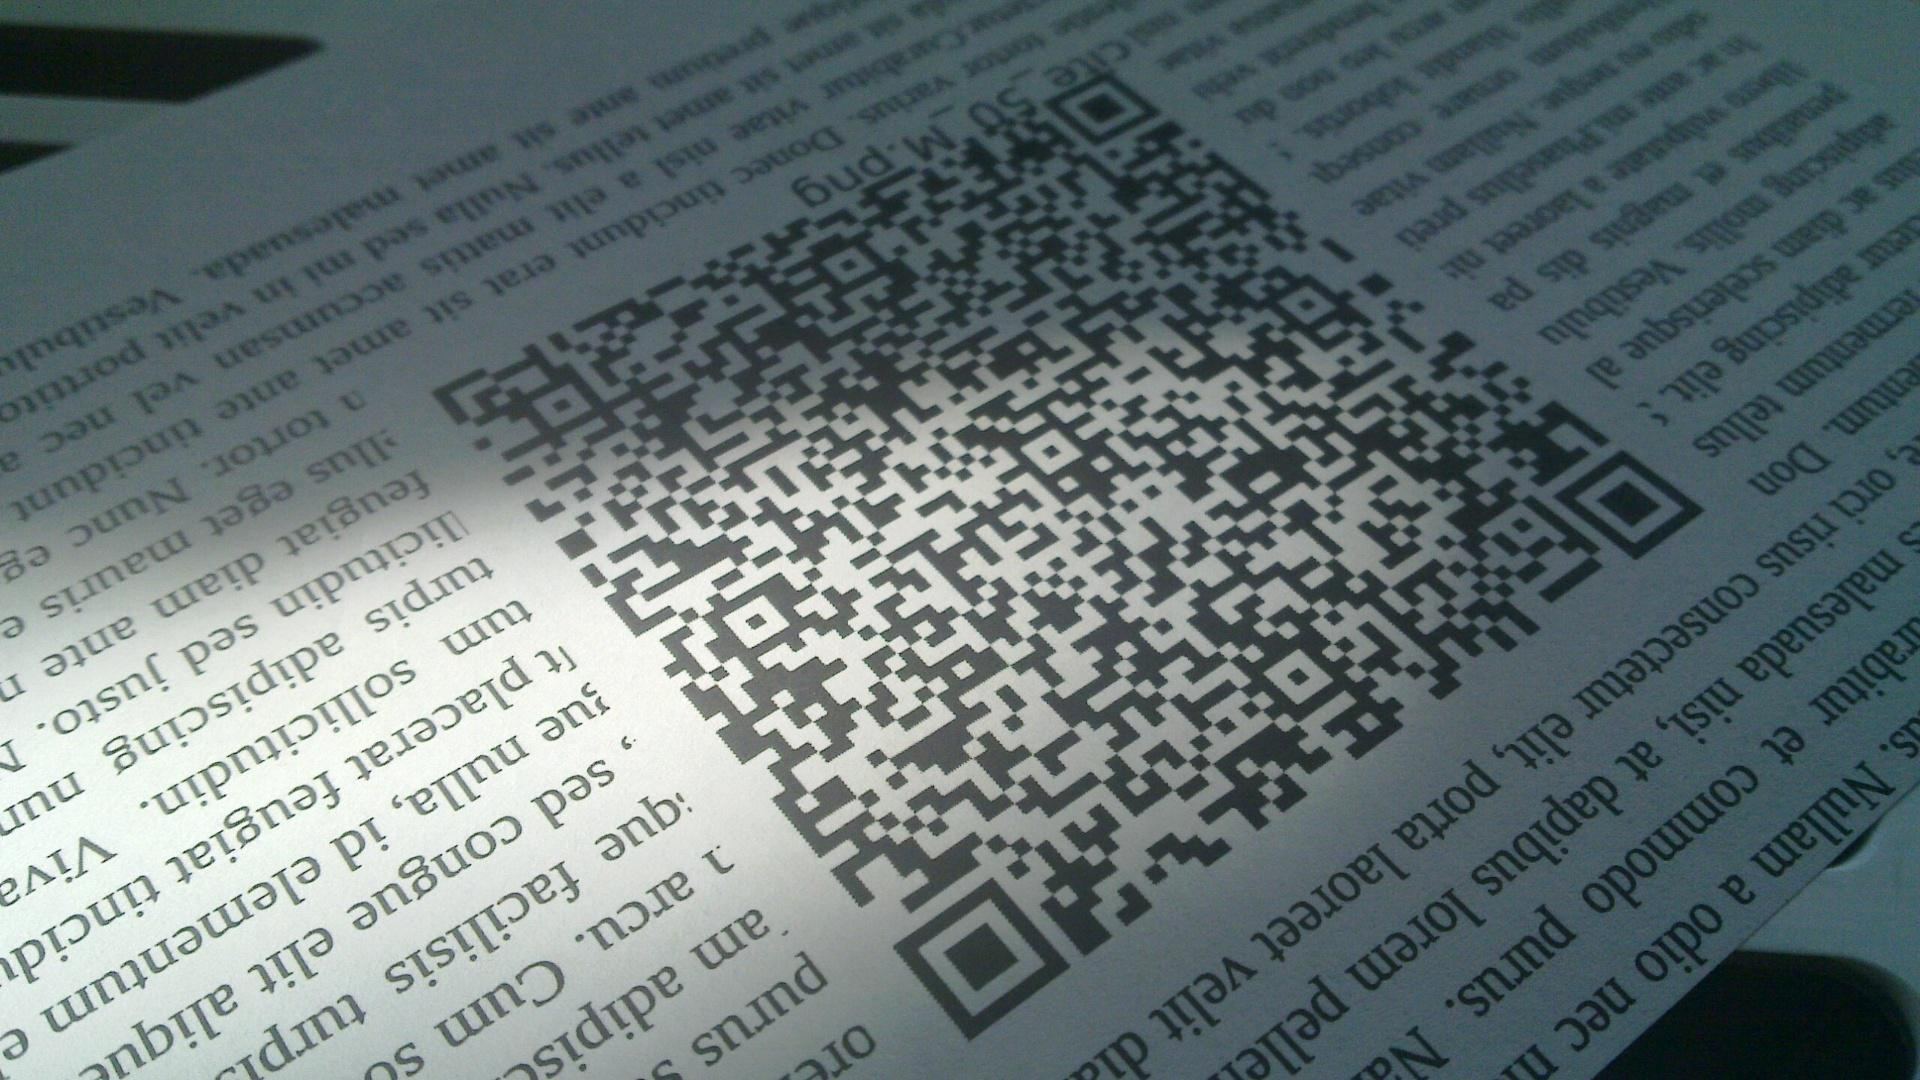Finder pattern: (895, 886, 1071, 1038), (1547, 450, 1704, 564), (1040, 75, 1162, 140)
